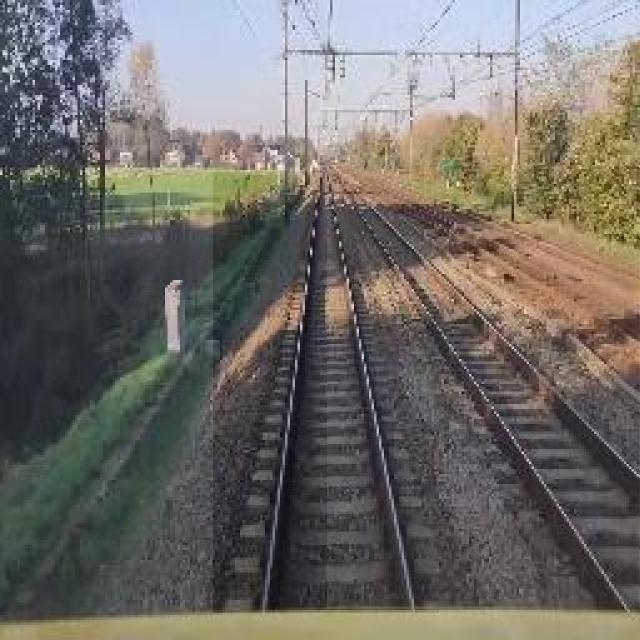rail: (329, 168, 640, 610), (215, 172, 440, 614)
